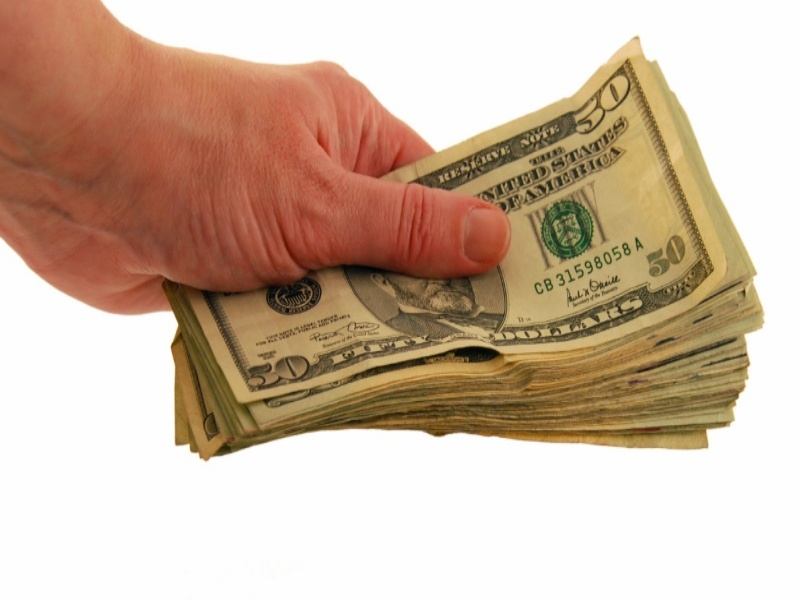cash: (161, 37, 766, 464)
